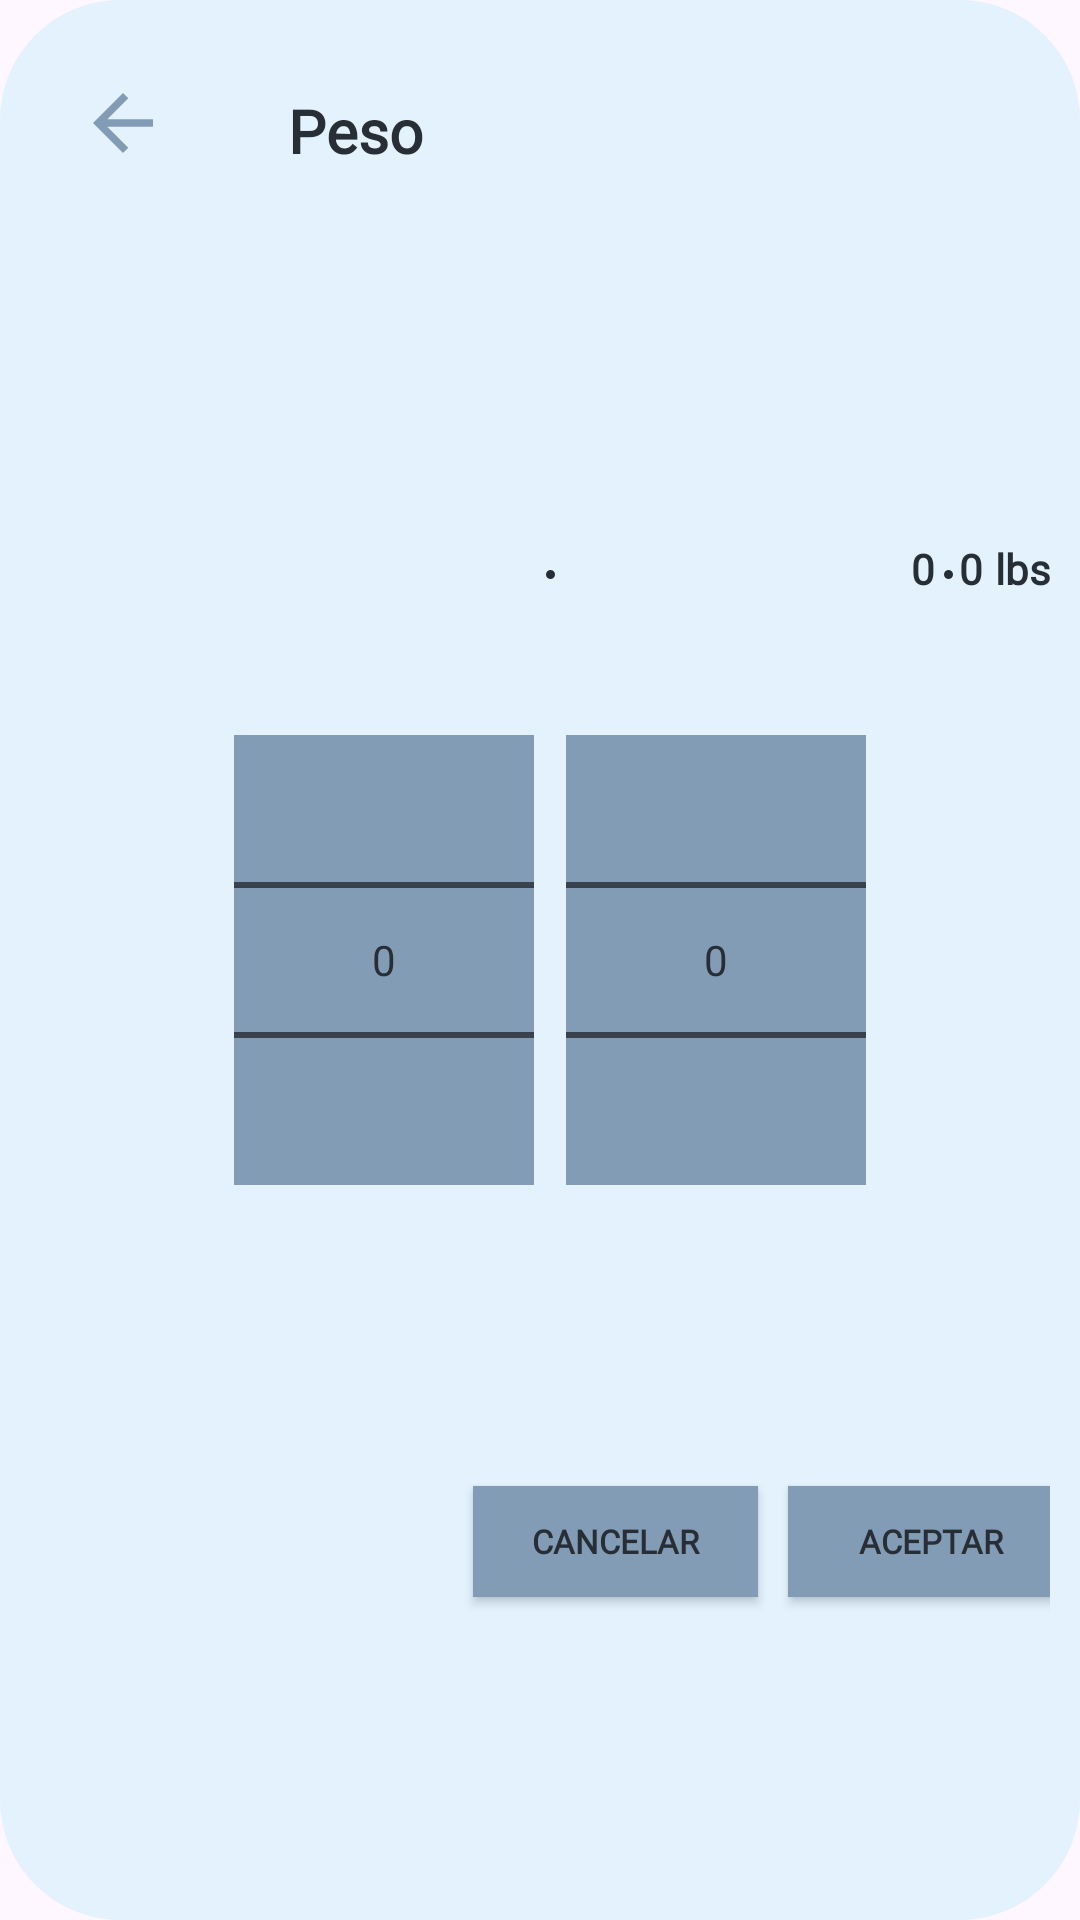

Icon bounding boxes for this 1080w x 1920h phone screenshot, format (x1, y1, x2, y2):
back: (93, 93, 153, 153)
